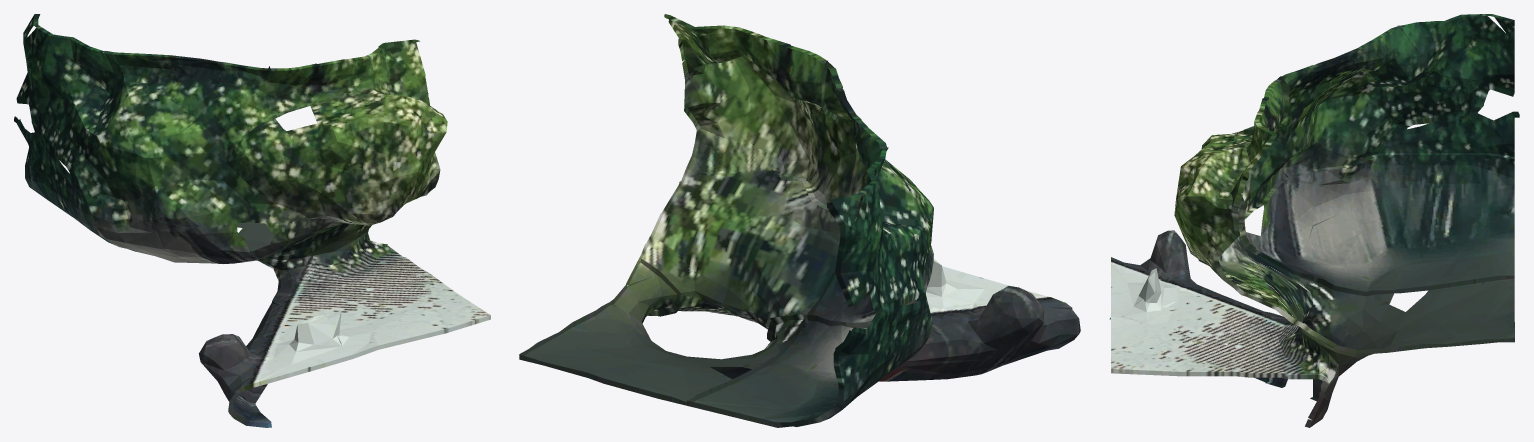
Rendered from BuildingMesh-00177.gltf.
3 views of the same model, side by side, from view 1: azimuth 30°, elevation 25°; view 2: azimuth 150°, elevation 25°; view 3: azimuth 270°, elevation 25° (orthographic). The views are drawn at different scales.
Parts seen in each view (by area): view 1: BuildingMesh-00177; view 2: BuildingMesh-00177; view 3: BuildingMesh-00177.
Boxes of the visible parts, x1,y1,x2,y2 form: BuildingMesh-00177: (14, 14, 490, 427); BuildingMesh-00177: (519, 14, 1080, 427); BuildingMesh-00177: (1109, 14, 1519, 427).
Bounding box in the file's own units: 0.7882 × 0.7529 × 0.9882.
1 material, 1 textured.
